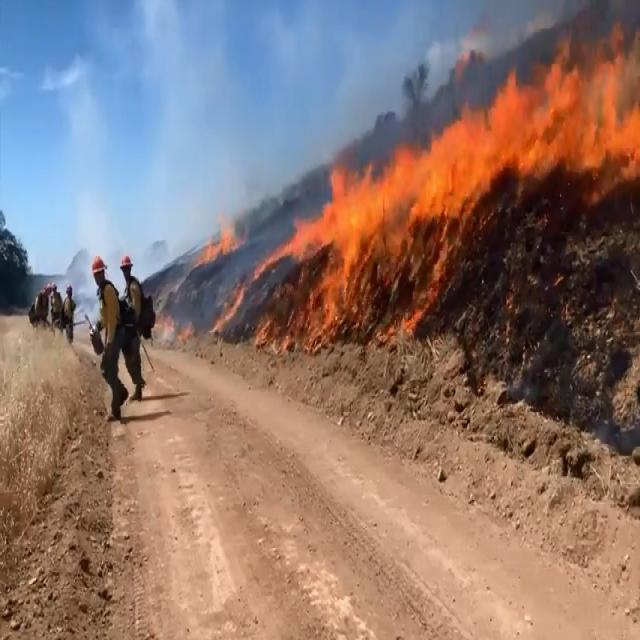Fire: (197, 22, 640, 336)
